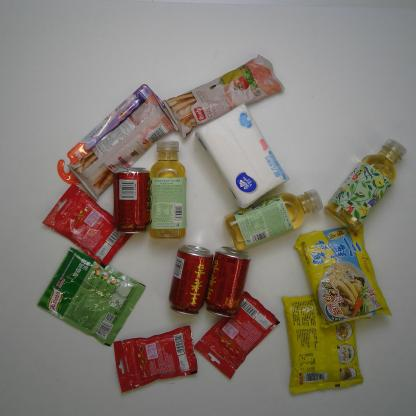Candy: (40, 183, 132, 266), (193, 292, 281, 377), (111, 323, 196, 396)
Dessert: (162, 54, 286, 138), (70, 95, 175, 193)
Drink: (323, 138, 407, 232), (224, 188, 320, 252), (149, 137, 186, 239), (169, 245, 215, 315), (206, 243, 248, 319), (114, 164, 150, 236)
Instant Noodles: (296, 225, 394, 330), (280, 292, 365, 394)
Personal Hygiene: (55, 84, 159, 186)
Seasoner: (37, 249, 144, 348)
Tissue: (193, 102, 291, 209)
